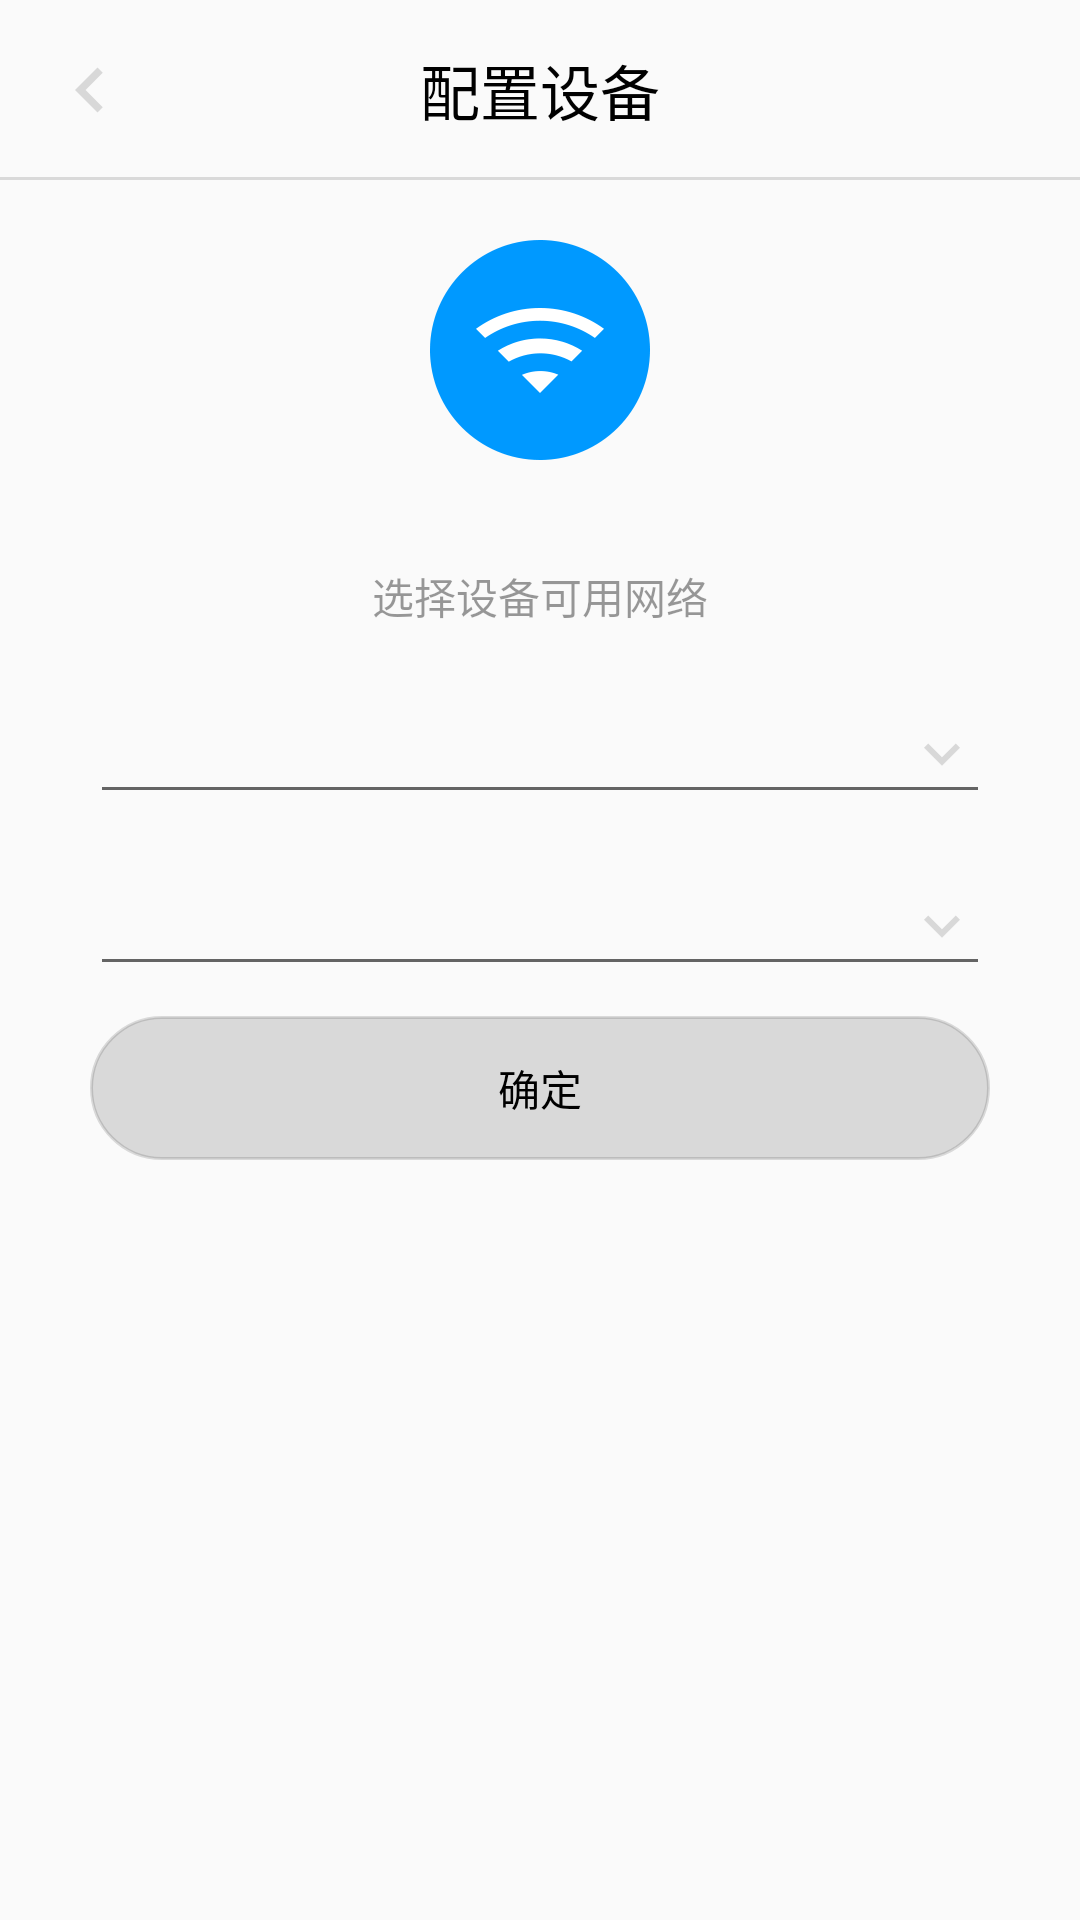

Screen size 1080 x 1920. Icon name, then its center in pixels as [x,y]:
left arrow: [89,90]
wifi: [540,350]
